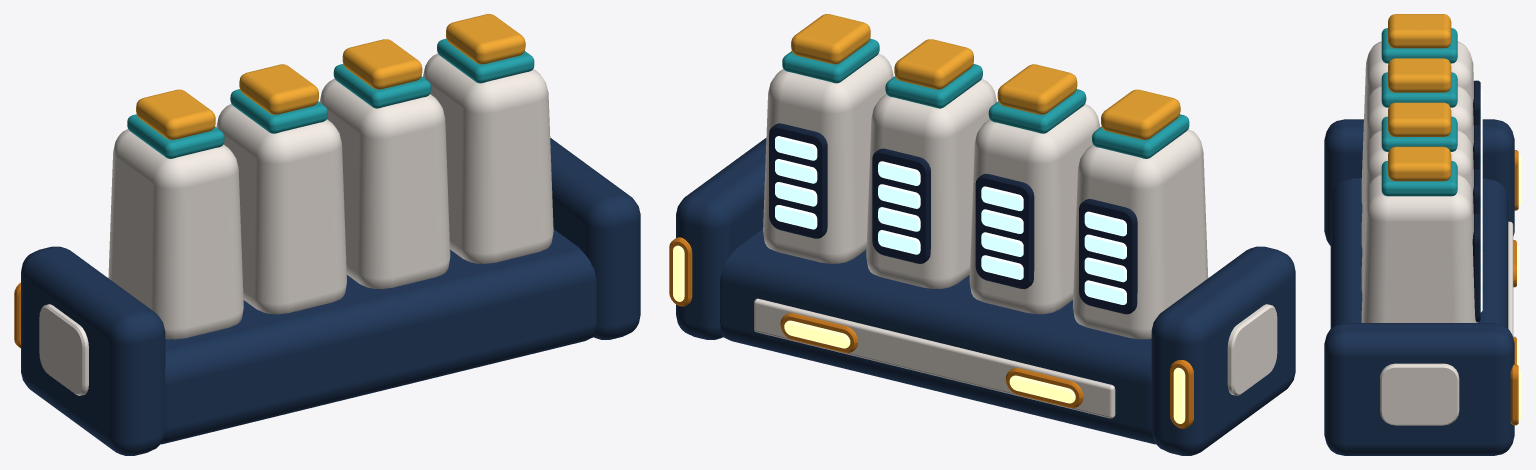
File: bateria_lunar.glb
3 views of the same model, side by side, from view 1: azimuth 30°, elevation 25°; view 2: azimuth 150°, elevation 25°; view 3: azimuth 270°, elevation 25° (orthographic). The views are drawn at different scales.
Parts seen in each view (by area): view 1: Malla_hueso, Malla_marino, Malla_ambar_mate, Malla_turquesa; view 2: Malla_hueso, Malla_marino, Malla_marino_osc, Malla_ambar_mate, Malla_turquesa, Malla_naranja_marco, Luz2, Luz, Segmento6, Segmento10, Segmento15, Segmento7 (+14 smaller); view 3: Malla_marino, Malla_hueso, Malla_ambar_mate, Malla_turquesa, Malla_marino_osc, Malla_naranja_marco.
Boxes of the visible parts, bbox=[...] form: Malla_hueso: bbox=[39, 53, 553, 395]; Malla_marino: bbox=[21, 138, 640, 455]; Malla_ambar_mate: bbox=[136, 14, 525, 139]; Malla_turquesa: bbox=[127, 38, 534, 158]; Malla_hueso: bbox=[754, 53, 1277, 418]; Malla_marino: bbox=[676, 138, 1295, 455]; Malla_marino_osc: bbox=[769, 123, 1137, 314]; Malla_ambar_mate: bbox=[791, 14, 1180, 139]; Malla_turquesa: bbox=[782, 38, 1189, 158]; Malla_naranja_marco: bbox=[669, 237, 1193, 428]; Luz2: bbox=[1009, 375, 1075, 403]; Luz: bbox=[784, 320, 850, 348]; Segmento6: bbox=[878, 207, 920, 231]; Segmento10: bbox=[981, 232, 1023, 256]; Segmento15: bbox=[1084, 234, 1126, 259]; Segmento7: bbox=[878, 184, 920, 208]; Malla_marino: bbox=[1324, 119, 1514, 455]; Malla_hueso: bbox=[1361, 41, 1513, 425]; Malla_ambar_mate: bbox=[1388, 14, 1451, 181]; Malla_turquesa: bbox=[1381, 28, 1457, 196]; Malla_marino_osc: bbox=[1472, 80, 1480, 321]; Malla_naranja_marco: bbox=[1510, 150, 1518, 425].
Bounding box in the file's own units: 3.45 × 1.82 × 1.24.
